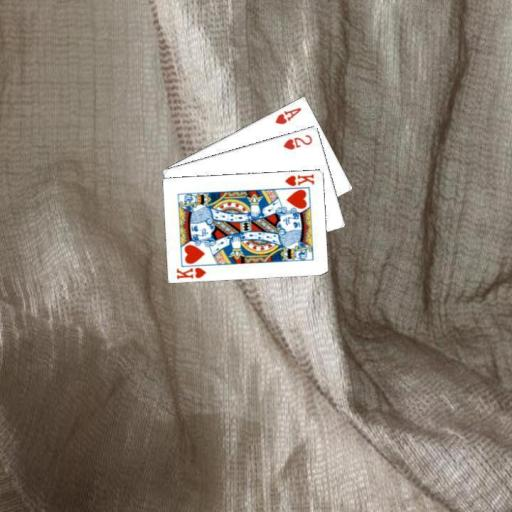card-corner: (280, 131, 314, 151), (272, 104, 303, 125), (282, 171, 316, 187), (174, 264, 208, 280)
